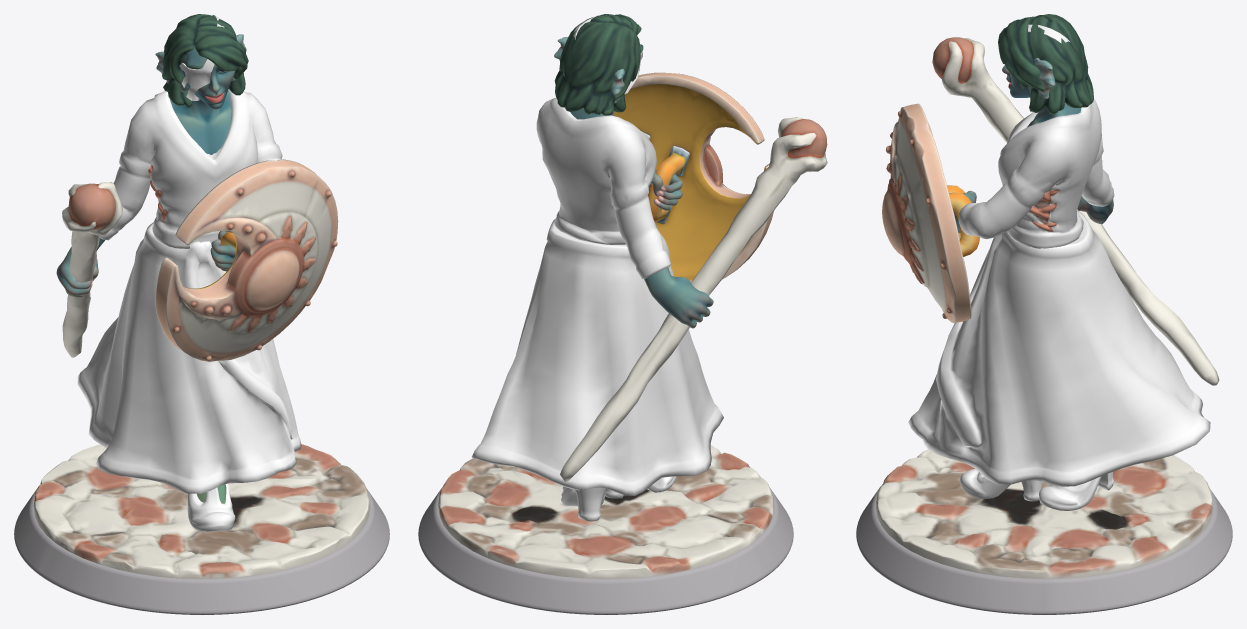
File: sapha.fbx
3 views of the same model, side by side, from view 1: azimuth 30°, elevation 25°; view 2: azimuth 150°, elevation 25°; view 3: azimuth 270°, elevation 25° (orthographic).
Parts seen in each view (by area): view 1: Sapha; view 2: Sapha; view 3: Sapha.
Part boxes in pixels (<box>): Sapha: <box>14,14,389,614</box>; Sapha: <box>418,14,827,614</box>; Sapha: <box>856,14,1232,614</box>.
Size of the model in its own units: 71.63 by 104 by 68.58.
1 material, 1 textured.
